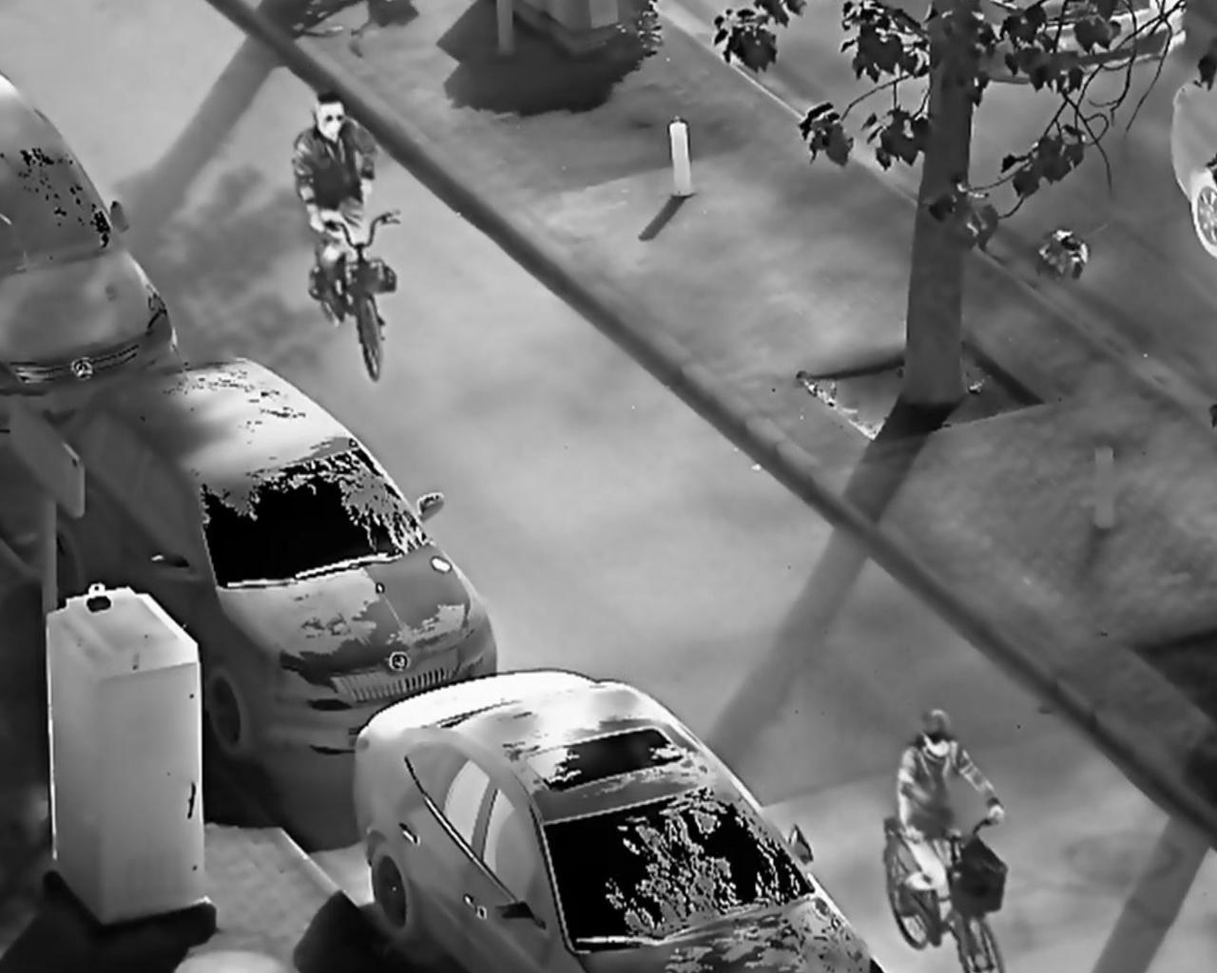person: (283, 89, 399, 318), (895, 705, 1006, 930)
